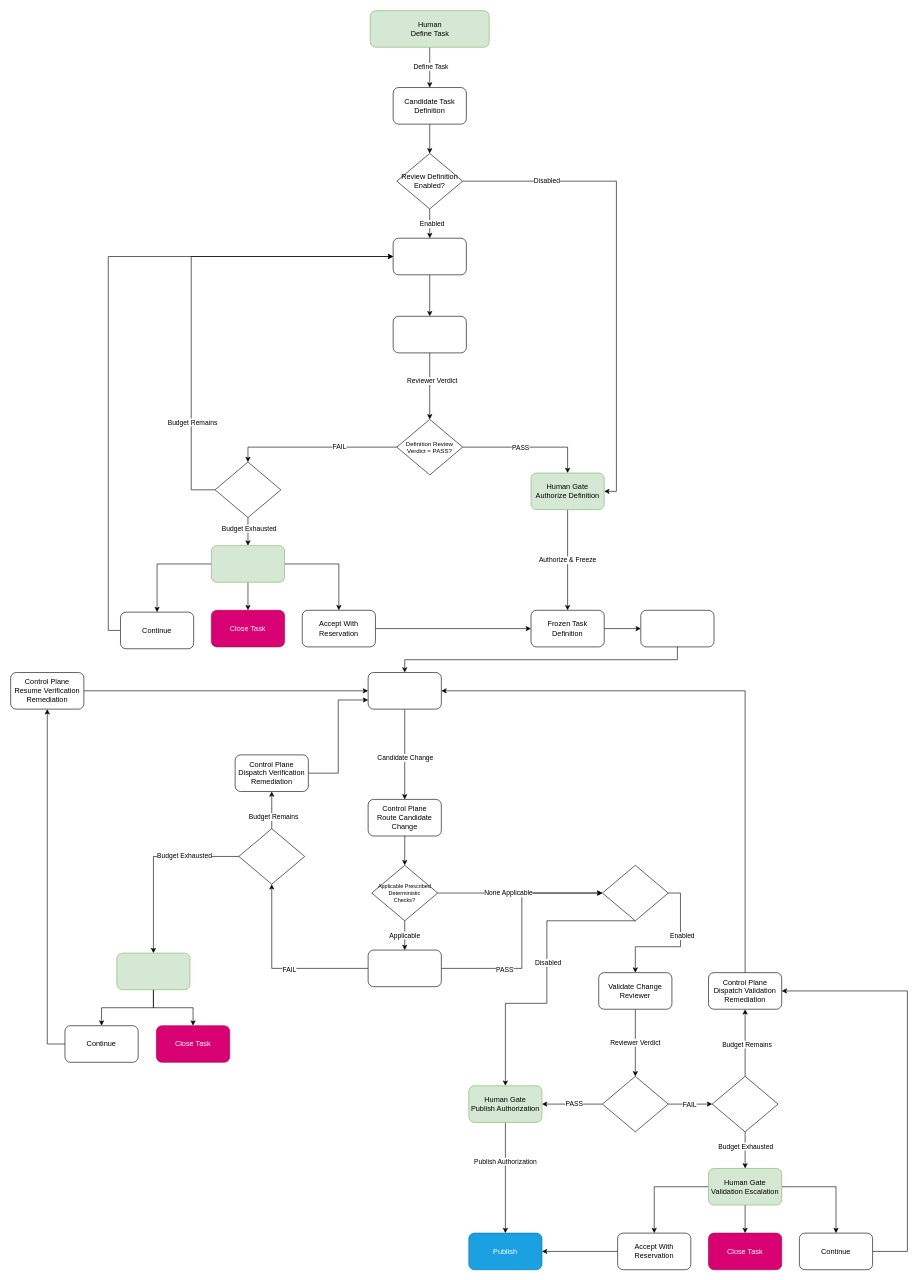
The diagram is 923 pixels wide and 1280 high, and some of its shapes have lost their labels. The shapes that lost their labels are listed below. From the top down, each one's centre as x and y in pixels, then its label:
At pixel 429 256: "Control Plane Dispatch Definition Review".
At pixel 429 334: "Review Definition Reviewer".
At pixel 247 489: "Definition Review Autonomous Budget Remains?".
At pixel 248 563: "Human Gate Definition Escalation".
At pixel 677 628: "Control Plane Dispatch Implement".
At pixel 404 690: "Implementer".
At pixel 271 856: "Verification Autonomous Budget Remains?".
At pixel 635 893: "Validate Change Enabled?".
At pixel 153 971: "Human Gate Verification Escalation".
At pixel 404 968: "Verify".
At pixel 635 1104: "Validation Review Verdict = PASS?".
At pixel 745 1104: "Validation Review Autonomous Budget Remains?".
